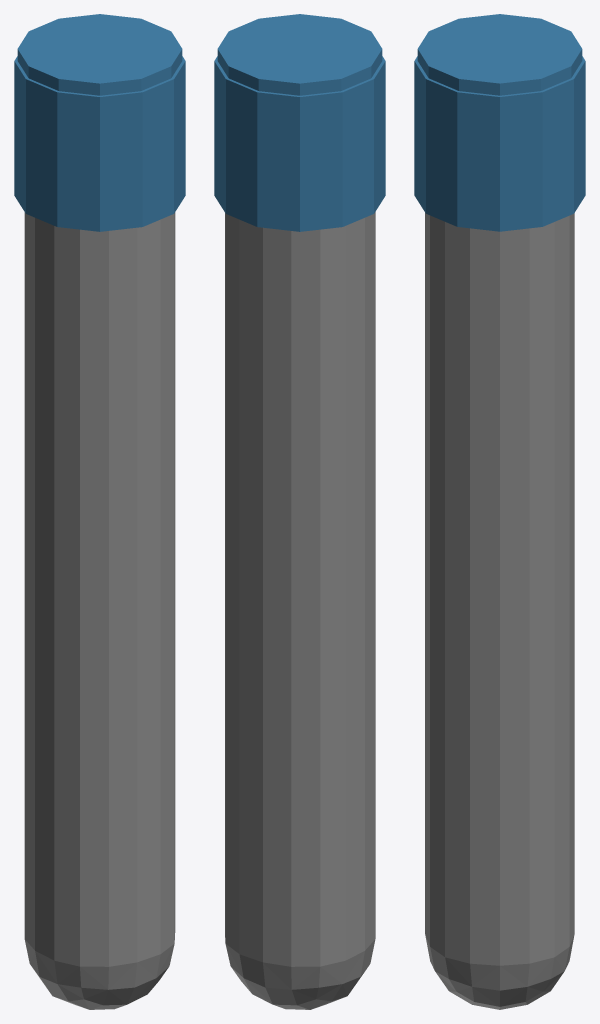
File: SM_样品管.FBX
The picture shows the model from 3 angles, left to right: view 1: azimuth 30°, elevation 25°; view 2: azimuth 150°, elevation 25°; view 3: azimuth 270°, elevation 25°; orthographic projection.
Visible parts, largest first — view 1: SM_样品管_管体, SM_样品管_盖子; view 2: SM_样品管_管体, SM_样品管_盖子; view 3: SM_样品管_管体, SM_样品管_盖子.
Part boxes in pixels (x1,y1,x2,y2): SM_样品管_管体: (24, 212, 175, 1009); SM_样品管_盖子: (14, 14, 185, 231); SM_样品管_管体: (225, 212, 375, 1009); SM_样品管_盖子: (214, 14, 385, 231); SM_样品管_管体: (425, 213, 574, 1009); SM_样品管_盖子: (414, 14, 585, 231).
Size of the model in its own units: 9.22 by 56.67 by 9.22.
